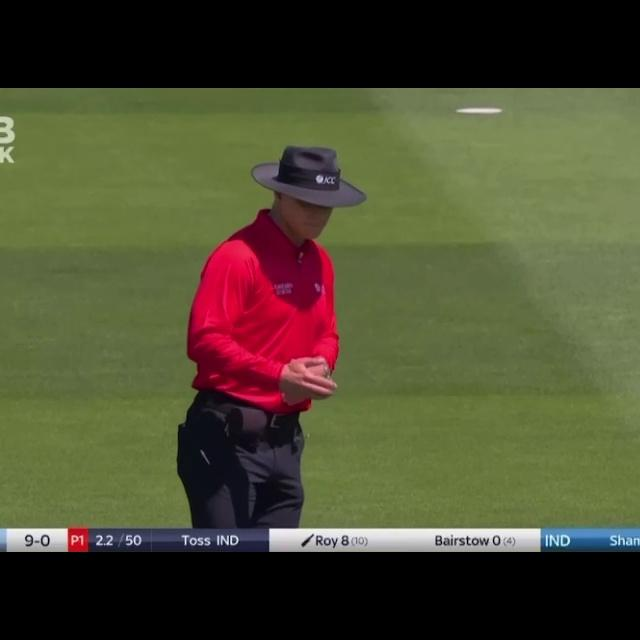umpire: (145, 139, 379, 518)
